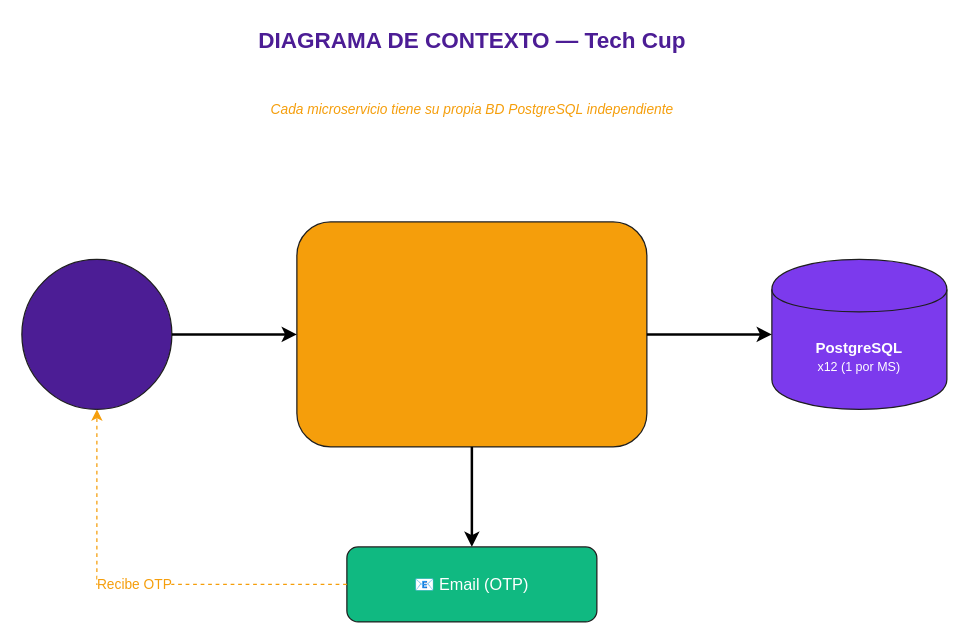
Some shapes in this 969 by 644 pixel diagram are drawn without their labels. The shapes that lost their labels are listed below. From the top down, each one's centre as x and y in pixels, then its label:
At (x=96, y=333): "USUARIO".
At (x=471, y=334): "🏆 TECH CUP Plataforma de Gestión de Torneos API Gateway + 11 Microservicios".
